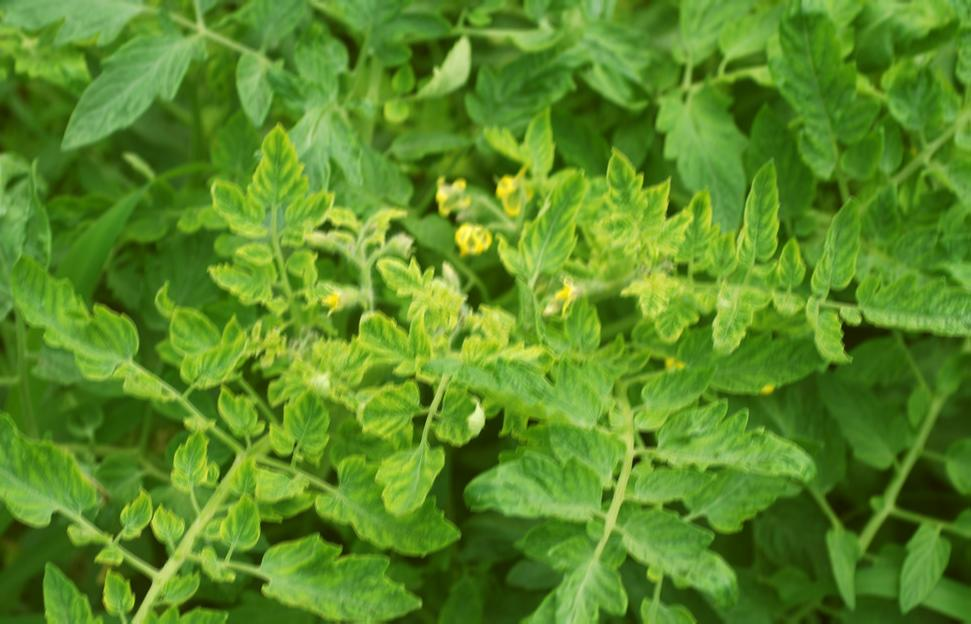Tomato leaf yellow virus: (12, 249, 134, 385), (315, 449, 468, 556), (458, 348, 614, 441), (260, 540, 430, 624), (0, 409, 95, 532), (625, 514, 740, 605), (468, 454, 610, 523), (858, 272, 971, 344), (520, 168, 589, 282), (245, 125, 321, 214), (629, 269, 699, 355), (268, 387, 340, 469), (737, 154, 787, 265), (377, 447, 449, 521), (363, 309, 432, 382), (211, 178, 281, 248), (637, 364, 723, 416), (356, 379, 426, 441), (599, 145, 650, 227), (184, 334, 250, 396), (800, 299, 857, 363), (433, 389, 486, 448), (705, 300, 754, 362), (209, 263, 276, 307), (113, 482, 159, 546), (216, 385, 267, 442), (563, 297, 609, 357), (225, 495, 266, 558), (170, 429, 210, 492), (374, 254, 433, 292), (103, 567, 140, 624), (152, 503, 192, 548)
